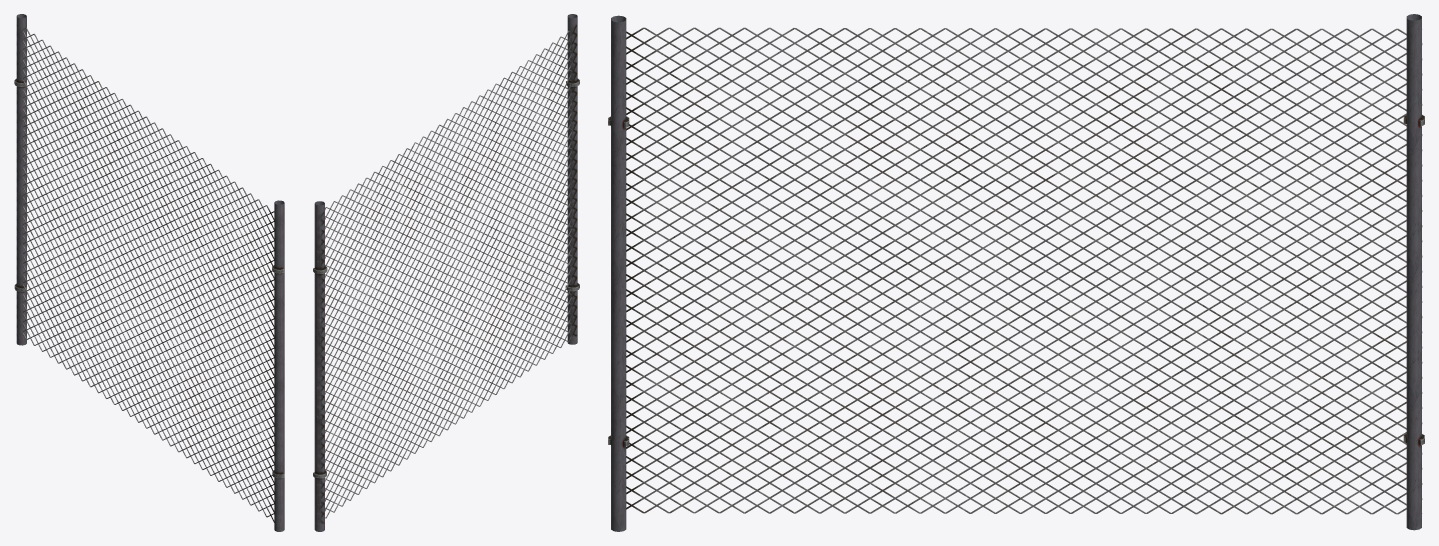
File: FenceMetal.fbx
3 renders of one model, left to right at view 1: azimuth 30°, elevation 25°; view 2: azimuth 150°, elevation 25°; view 3: azimuth 270°, elevation 25°, orthographic. The views are drawn at different scales.
Parts seen in each view (by area): view 1: Cylinder.019; view 2: Cylinder.019; view 3: Cylinder.019.
Part boxes in pixels (x1=…): Cylinder.019: x1=14, y1=14, x2=284, y2=531; Cylinder.019: x1=313, y1=14, x2=579, y2=531; Cylinder.019: x1=608, y1=14, x2=1424, y2=531.
Bounding box in the file's own units: 11.82 × 279 × 405.
